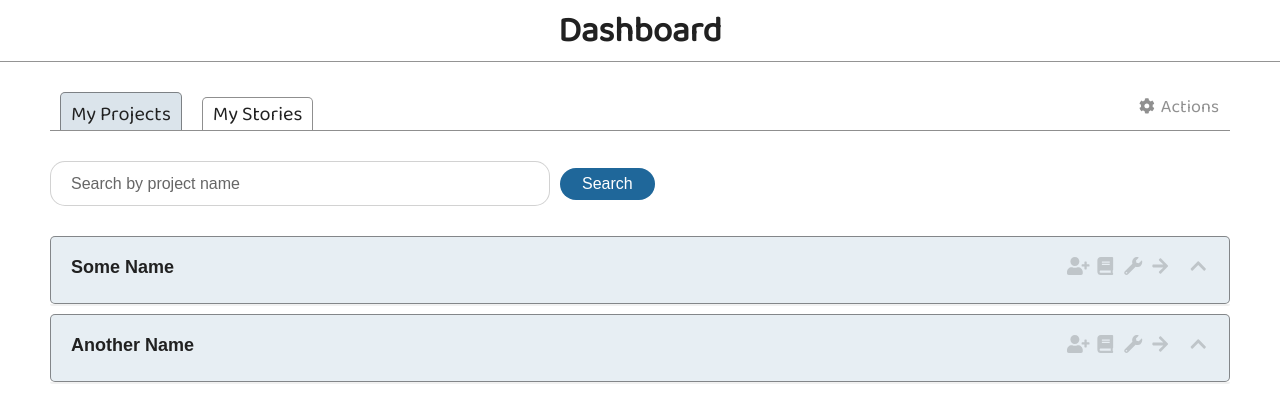
Test case: <Dashboard /> › should render the 'New Project' item under the actions menu
Click the element with test id "dashboardActionsMenu".
click(1178, 107)  # box [1138, 93, 1219, 121]
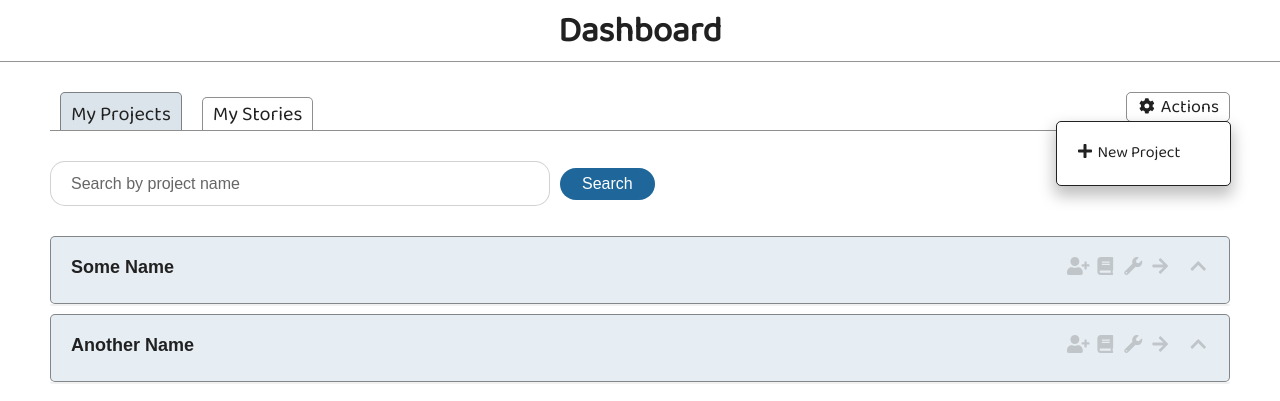
expect the list item "New Project" is shown: met, box [1062, 134, 1226, 171]
